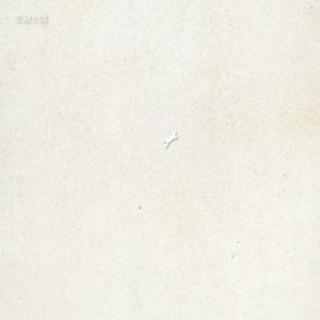Wrenchtrack_idkeyframe: (162, 131, 178, 147)
